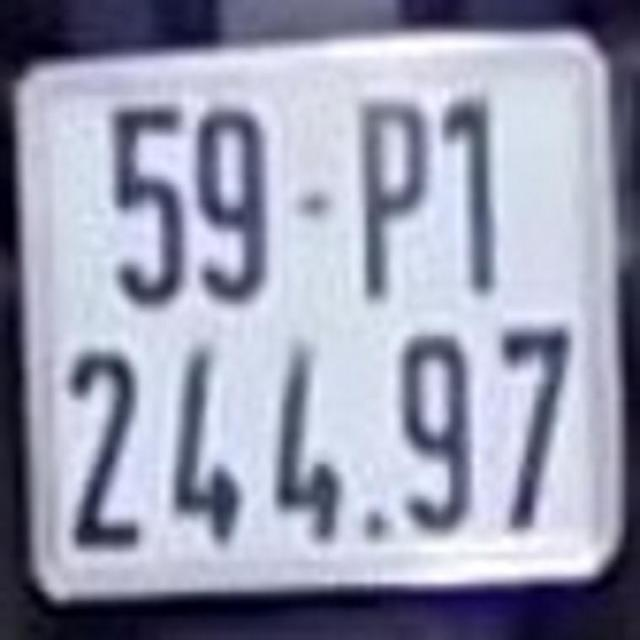1: (436, 78, 520, 302)
2: (60, 334, 152, 556)
4: (166, 328, 254, 551), (263, 311, 347, 544)
5: (92, 85, 190, 314)
7: (497, 305, 577, 536)
9: (385, 299, 482, 528), (194, 81, 280, 314)
P: (352, 78, 435, 302)
